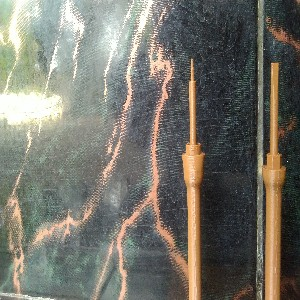obeng: (262, 61, 287, 300)
solder: (181, 57, 206, 300)
